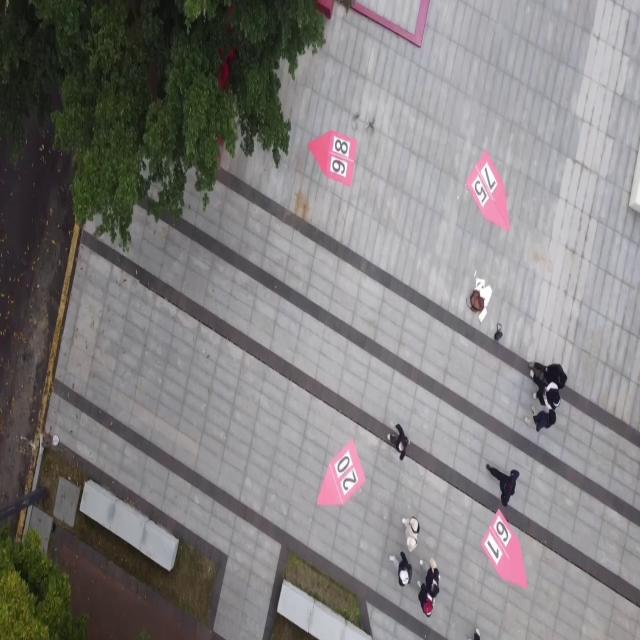-sign-: (480, 508, 528, 590), (465, 150, 510, 234), (317, 440, 366, 508), (308, 129, 358, 187)
